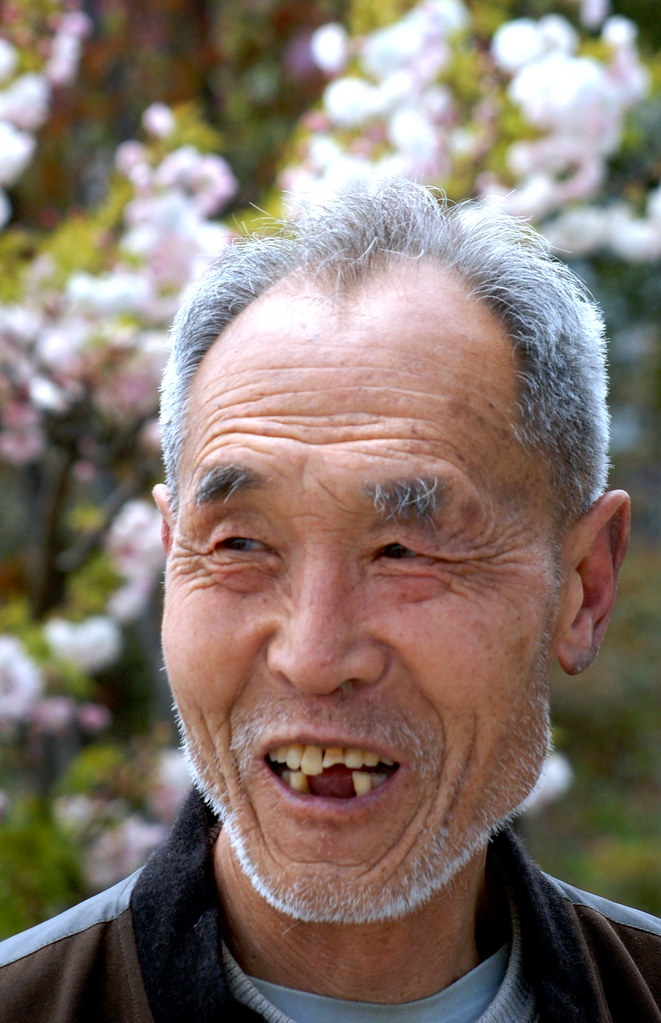without_mask: (158, 279, 563, 940)
